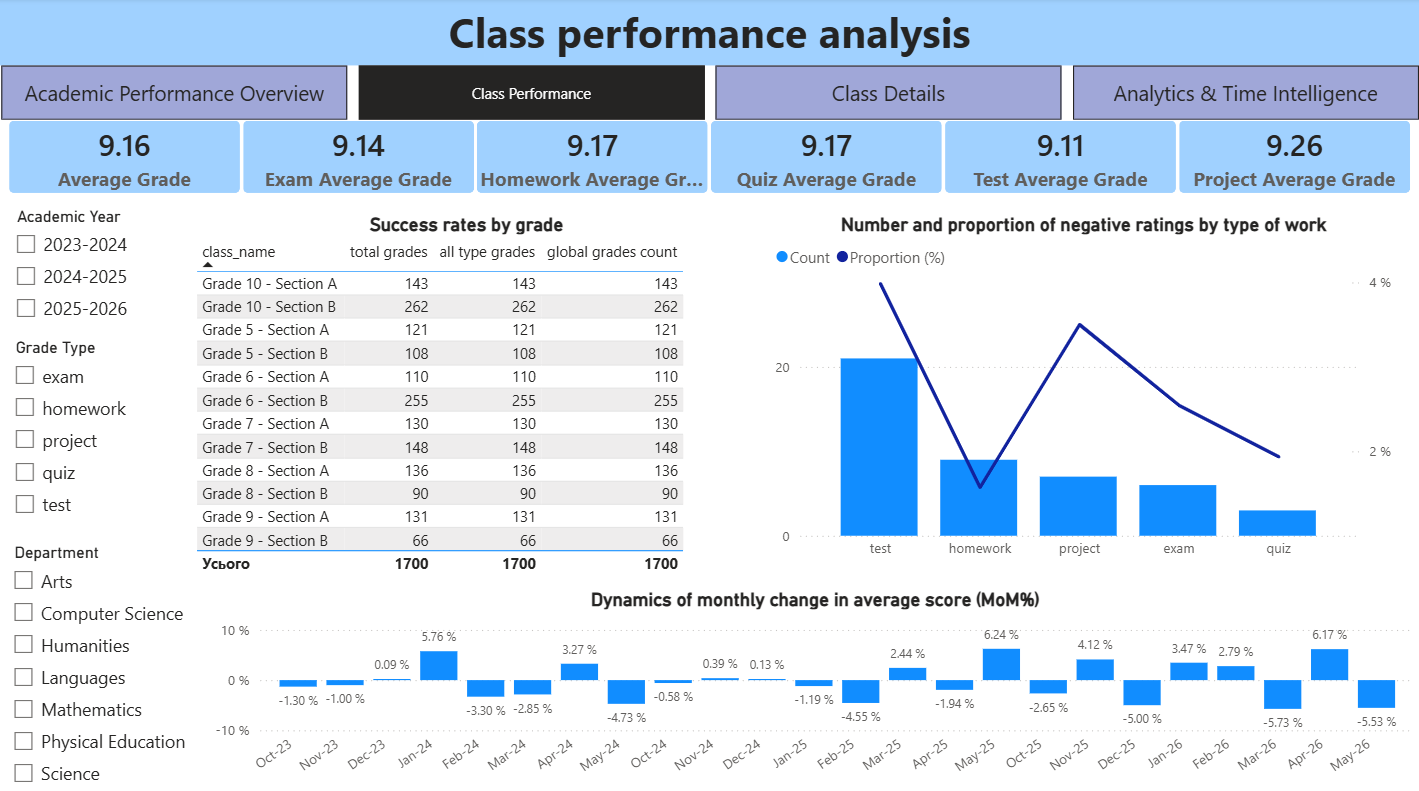

Layout of this report page (visuals, bound fields, positions):
{"tool":"powerbi","page":{"name":" Class Performance","canvas":[1280,720],"ordinal":1},"visuals":[{"type":"slicer","fields":{"Values":["grades.grade_type"]},"box":[1.3,301.9,140.8,185.2],"z":0},{"type":"cardVisual","fields":{"Data":["_Measures.average grade","_Measures.exam average grade","_Measures.homework average grade","_Measures.quiz average grade","_Measures.test average grade","_Measures.project average grade"]},"box":[1.3,104,1278.7,79.9],"z":1000},{"type":"slicer","fields":{"Values":["periods.academic_year"]},"box":[2.5,183.9,140.8,118],"z":2000},{"type":"slicer","fields":{"Values":["subjects.department_hint"]},"box":[0,486.7,181,233.6],"z":3000},{"type":"tableEx","title":"Success rates by grade","fields":{"Values":["classes.class_name","_Measures.total grades","_Measures.all type grades","_Measures.global grades count"]},"box":[171.3,194.1,498.6,337.4],"z":4000},{"type":"lineStackedColumnComboChart","title":"Number and proportion of negative ratings by type of work","fields":{"Category":["grades.grade_type"],"Y":["_Measures.neg grades count"],"Y2":["_Measures.neg grades prop"]},"box":[693.9,194.1,565.8,321],"z":5000},{"type":"clusteredColumnChart","title":"Dynamics of monthly change in average score (MoM%)","fields":{"Category":["calendar.Year_Month"],"Y":["_Measures.MoM_AG%"]},"box":[189,531.5,1091,187.8],"z":6000},{"type":"textbox","box":[0,0,1280,60.9],"z":7000},{"type":"pageNavigator","box":[1.3,60.9,1278.7,49.5],"z":8000}]}

Visuals, with their boxes in screenshot pixels (x1, y1, x2, y2), scaled from the page's 1280x720 canvas onto the 1419x791 screenshot:
slicer - grades.grade_type: [left=1, top=332, right=158, bottom=535]
cardVisual - _Measures.average grade x _Measures.exam average grade: [left=1, top=114, right=1418, bottom=202]
slicer - periods.academic_year: [left=3, top=202, right=159, bottom=332]
slicer - subjects.department_hint: [left=0, top=535, right=201, bottom=790]
"Success rates by grade" tableEx: [left=190, top=213, right=743, bottom=584]
"Number and proportion of negative ratings by type of work" lineStackedColumnComboChart: [left=769, top=213, right=1396, bottom=566]
"Dynamics of monthly change in average score (MoM%)" clusteredColumnChart: [left=210, top=584, right=1418, bottom=790]
textbox: [left=0, top=0, right=1418, bottom=67]
pageNavigator: [left=1, top=67, right=1418, bottom=121]
